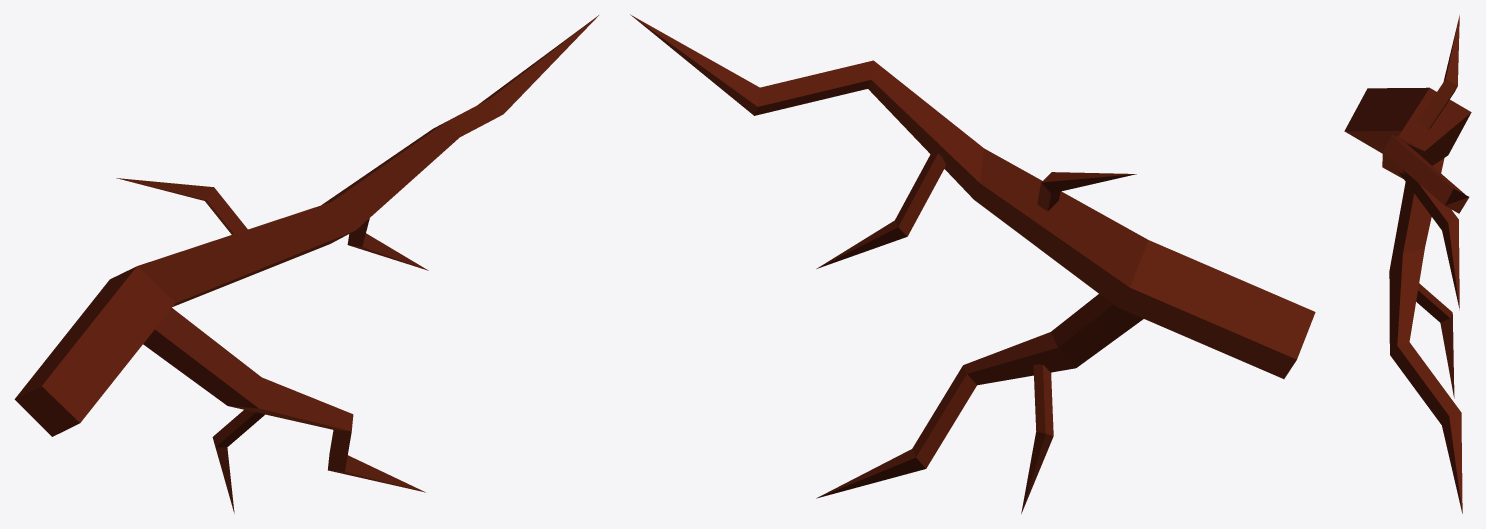
Rendered from SM_Braches_3.fbx.
The picture shows the model from 3 angles, left to right: view 1: azimuth 30°, elevation 25°; view 2: azimuth 150°, elevation 25°; view 3: azimuth 270°, elevation 25°; orthographic projection. The views are drawn at different scales.
Visible parts, largest first — view 1: Braches_3; view 2: Braches_3; view 3: Braches_3.
Boxes of the visible parts, x1=… form: Braches_3: x1=14, y1=15, x2=598, y2=513; Braches_3: x1=630, y1=14, x2=1315, y2=513; Braches_3: x1=1344, y1=15, x2=1471, y2=513.
Bounding box in the file's own units: 57.86 × 38.66 × 11.22.
